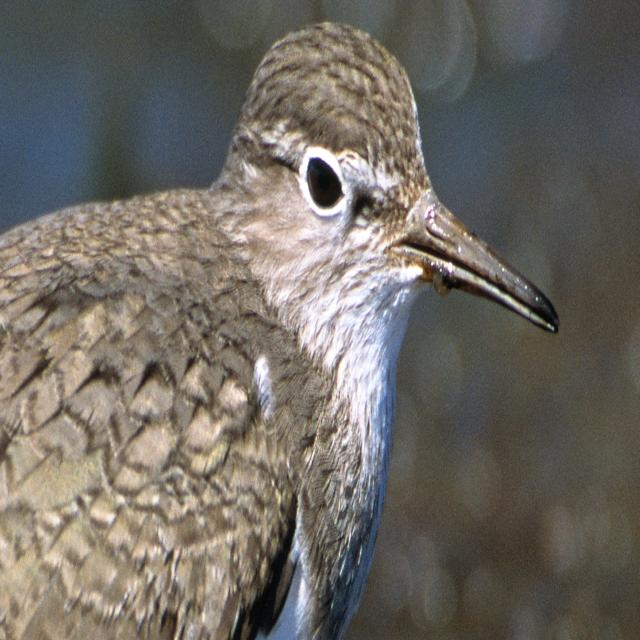Sandpiper: (0, 19, 559, 640)
